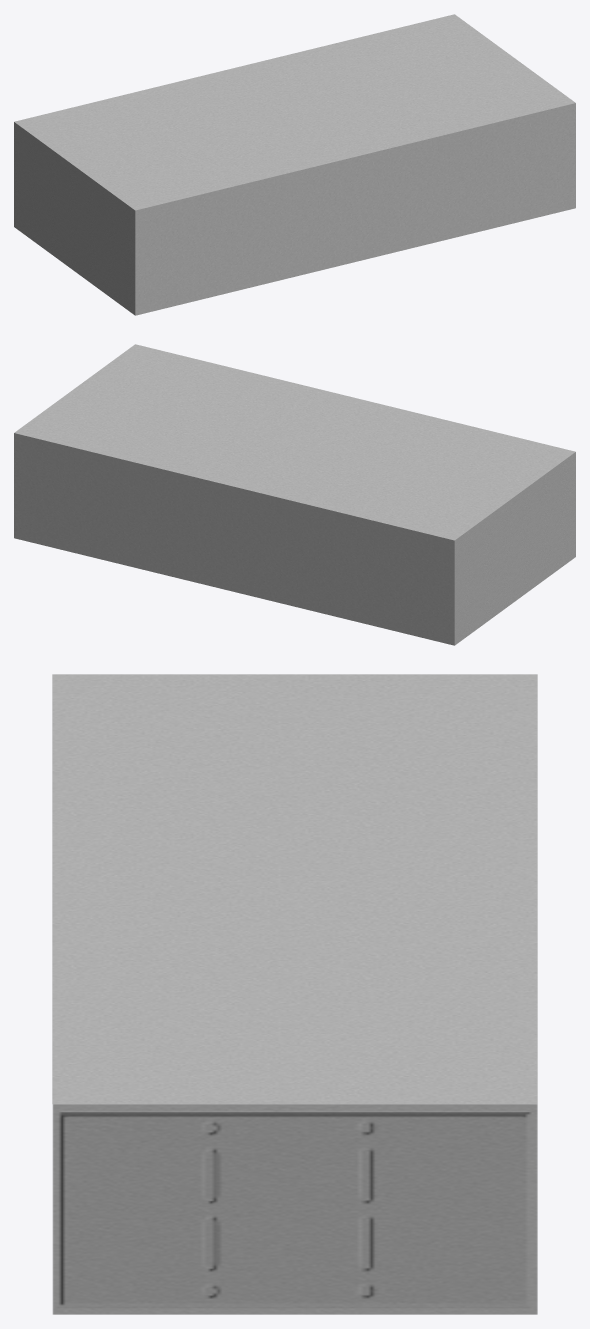
Rendered from dr104-geode.glb.
3 renders of one model, top to bottom at view 1: azimuth 30°, elevation 25°; view 2: azimuth 150°, elevation 25°; view 3: azimuth 270°, elevation 25°, orthographic. The views are drawn at different scales.
Visible parts, largest first — view 1: Node; view 2: Node; view 3: Node.
Part boxes in pixels (x1,y1,x2,y2): Node: (14,14,575,315); Node: (14,344,575,645); Node: (52,674,537,1314).
Bounding box in the file's own units: 0.9776 × 0.2231 × 0.4661.
Materials: 2 (2 with a texture image).
